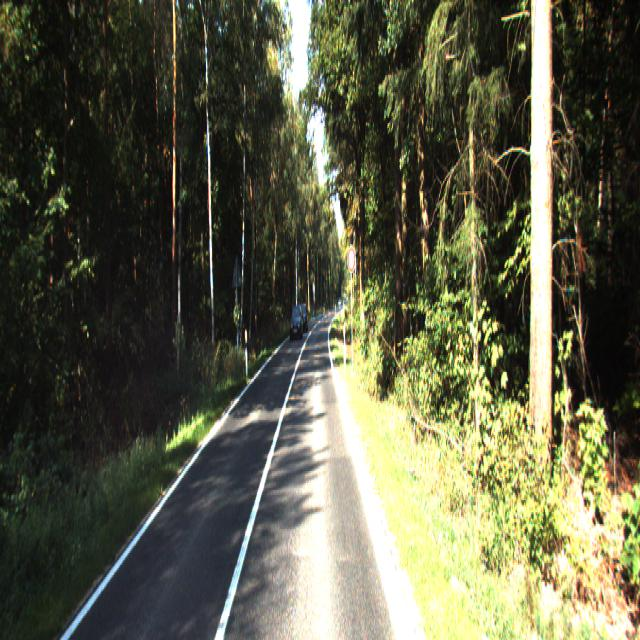Car: (290, 306, 304, 342)
